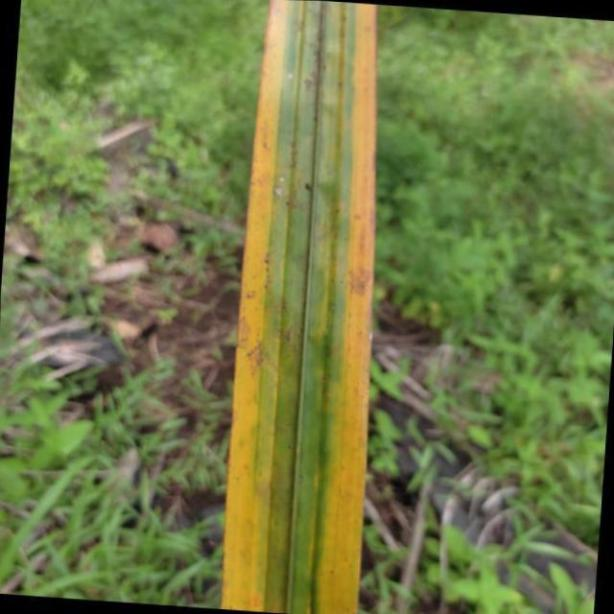Megnesium: (222, 0, 376, 614)
